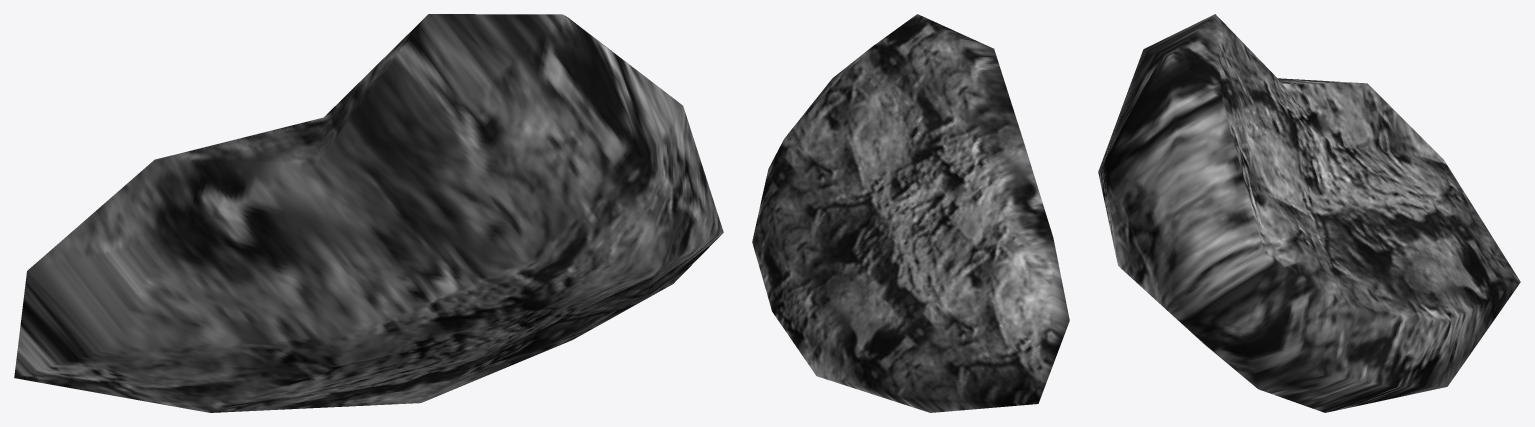
The model's file is Stone03.glb.
3 renders of one model, left to right at view 1: azimuth 30°, elevation 25°; view 2: azimuth 150°, elevation 25°; view 3: azimuth 270°, elevation 25°, orthographic. The views are drawn at different scales.
Visible parts, largest first — view 1: model_Stone03; view 2: model_Stone03; view 3: model_Stone03.
Boxes of the visible parts, <box> form: model_Stone03: <box>14,14,723,412</box>; model_Stone03: <box>752,14,1069,412</box>; model_Stone03: <box>1098,14,1520,412</box>.
Bounding box in the file's own units: 2.31 × 1.78 × 1.95.
1 material, 1 textured.
